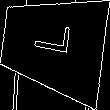L_W: (31, 26, 76, 65)
